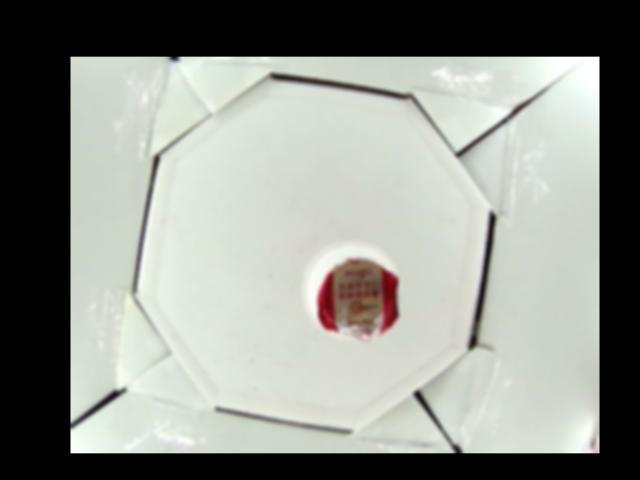Bottle: (301, 240, 401, 341)
